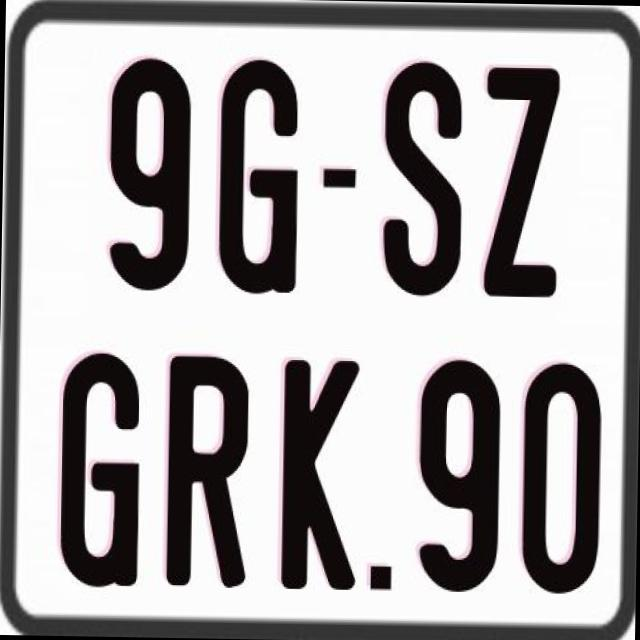0: (517, 357, 601, 590)
9: (104, 54, 192, 289), (414, 357, 498, 592)
G: (56, 349, 142, 590), (213, 59, 300, 296)
K: (276, 358, 358, 592)
R: (166, 352, 253, 588)
S: (378, 57, 464, 298)
Z: (482, 62, 560, 300)
